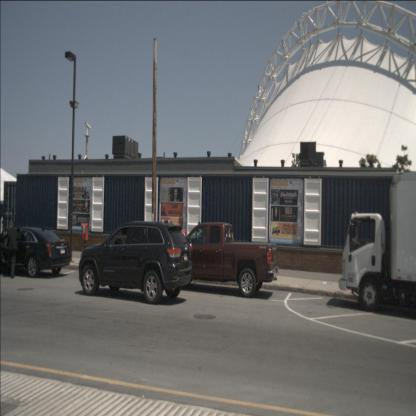human-pedestrian-adult: (6, 219, 19, 278)
vehicle-car: (79, 222, 192, 304), (0, 226, 70, 277)
vehicle-truck: (339, 172, 415, 313), (161, 221, 278, 298)
